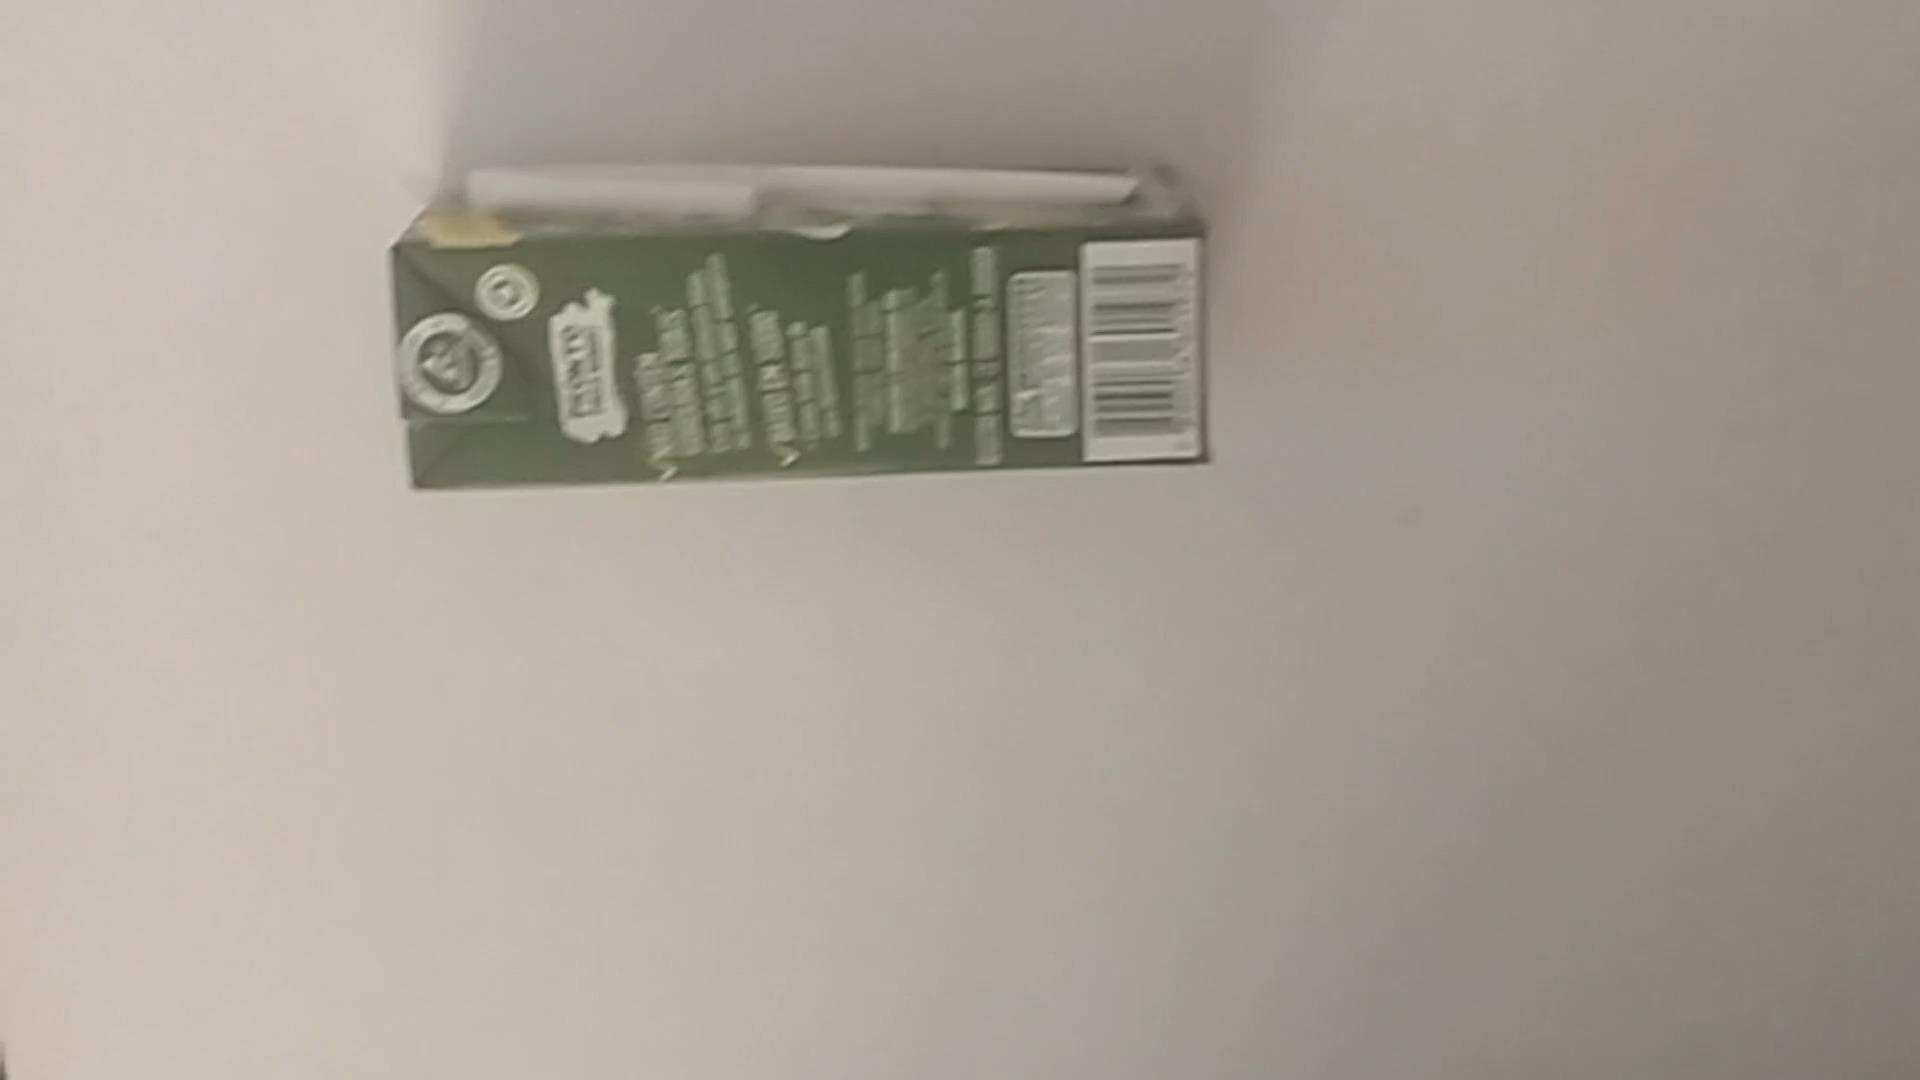coco: (388, 109, 1220, 510)
